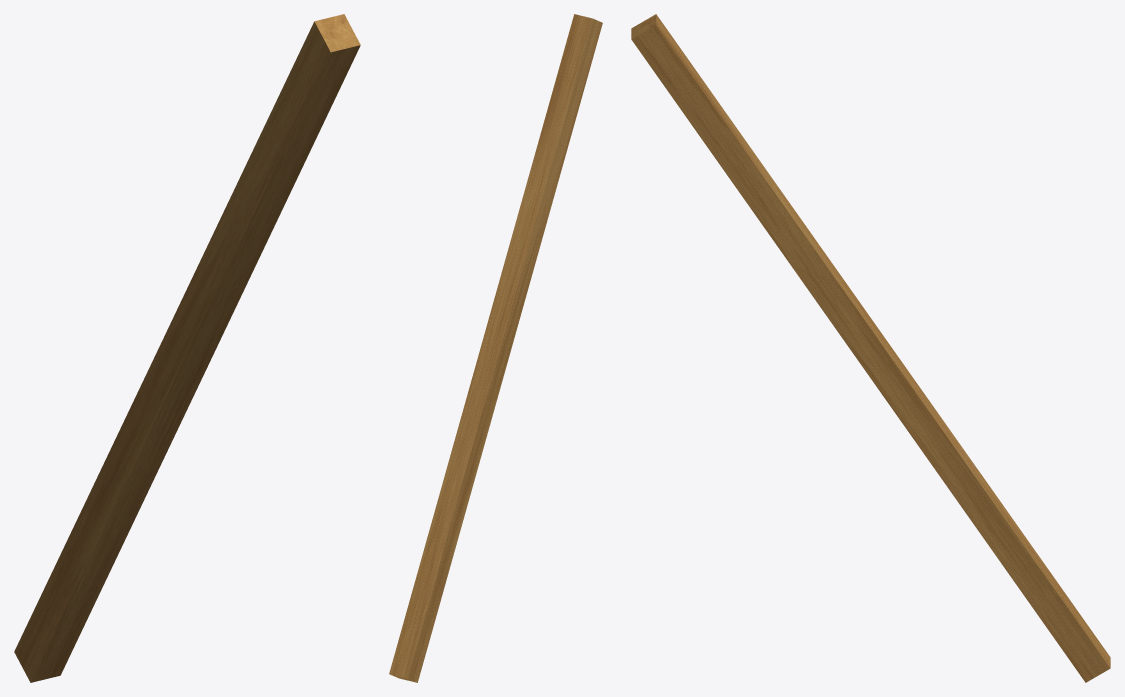
The model's file is MercureBarre.fbx.
The picture shows the model from 3 angles, left to right: view 1: azimuth 30°, elevation 25°; view 2: azimuth 150°, elevation 25°; view 3: azimuth 270°, elevation 25°; orthographic projection. The views are drawn at different scales.
Visible parts, largest first — view 1: Barre; view 2: Barre; view 3: Barre.
Part boxes in pixels (x1,y1,x2,y2): Barre: [14, 14, 360, 682]; Barre: [389, 14, 602, 682]; Barre: [631, 14, 1110, 682].
Size of the model in its own units: 8 by 221 by 146.
Materials: 1 (1 with a texture image).
